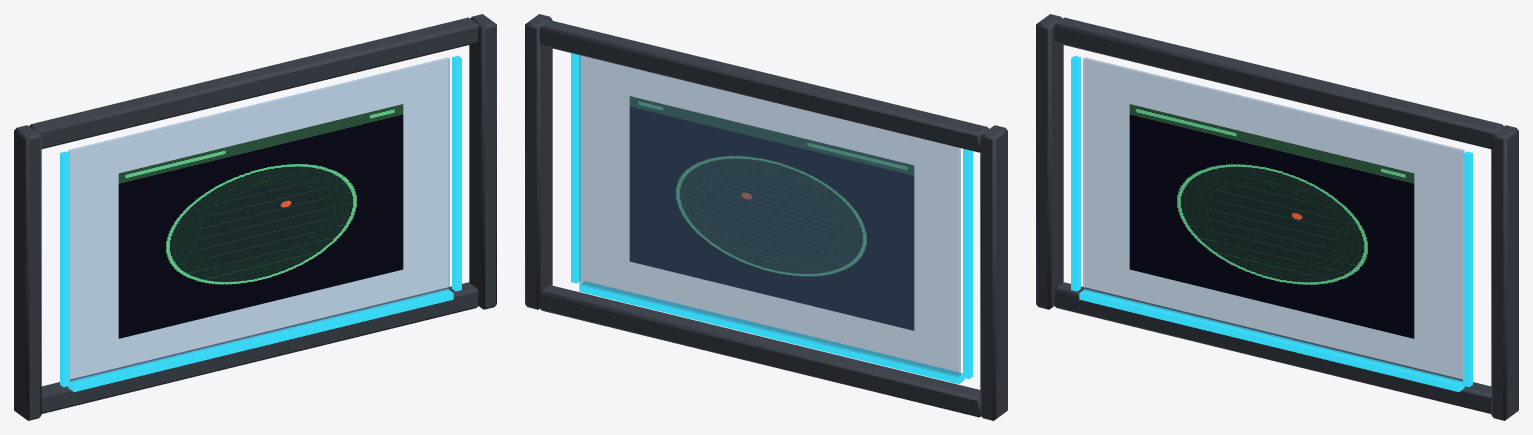
Rendered from display_holo_frame_panel.glb.
The picture shows the model from 3 angles, left to right: view 1: azimuth 30°, elevation 25°; view 2: azimuth 150°, elevation 25°; view 3: azimuth 330°, elevation 25°; orthographic projection.
Visible parts, largest first — view 1: display_holo_frame_panel; view 2: display_holo_frame_panel; view 3: display_holo_frame_panel.
Part boxes in pixels (x1,y1,x2,y2): display_holo_frame_panel: (14, 14, 496, 420); display_holo_frame_panel: (525, 14, 1007, 420); display_holo_frame_panel: (1036, 14, 1518, 420).
Bounding box in the file's own units: 1.49 × 0.86 × 0.085.
4 materials, 1 textured.
